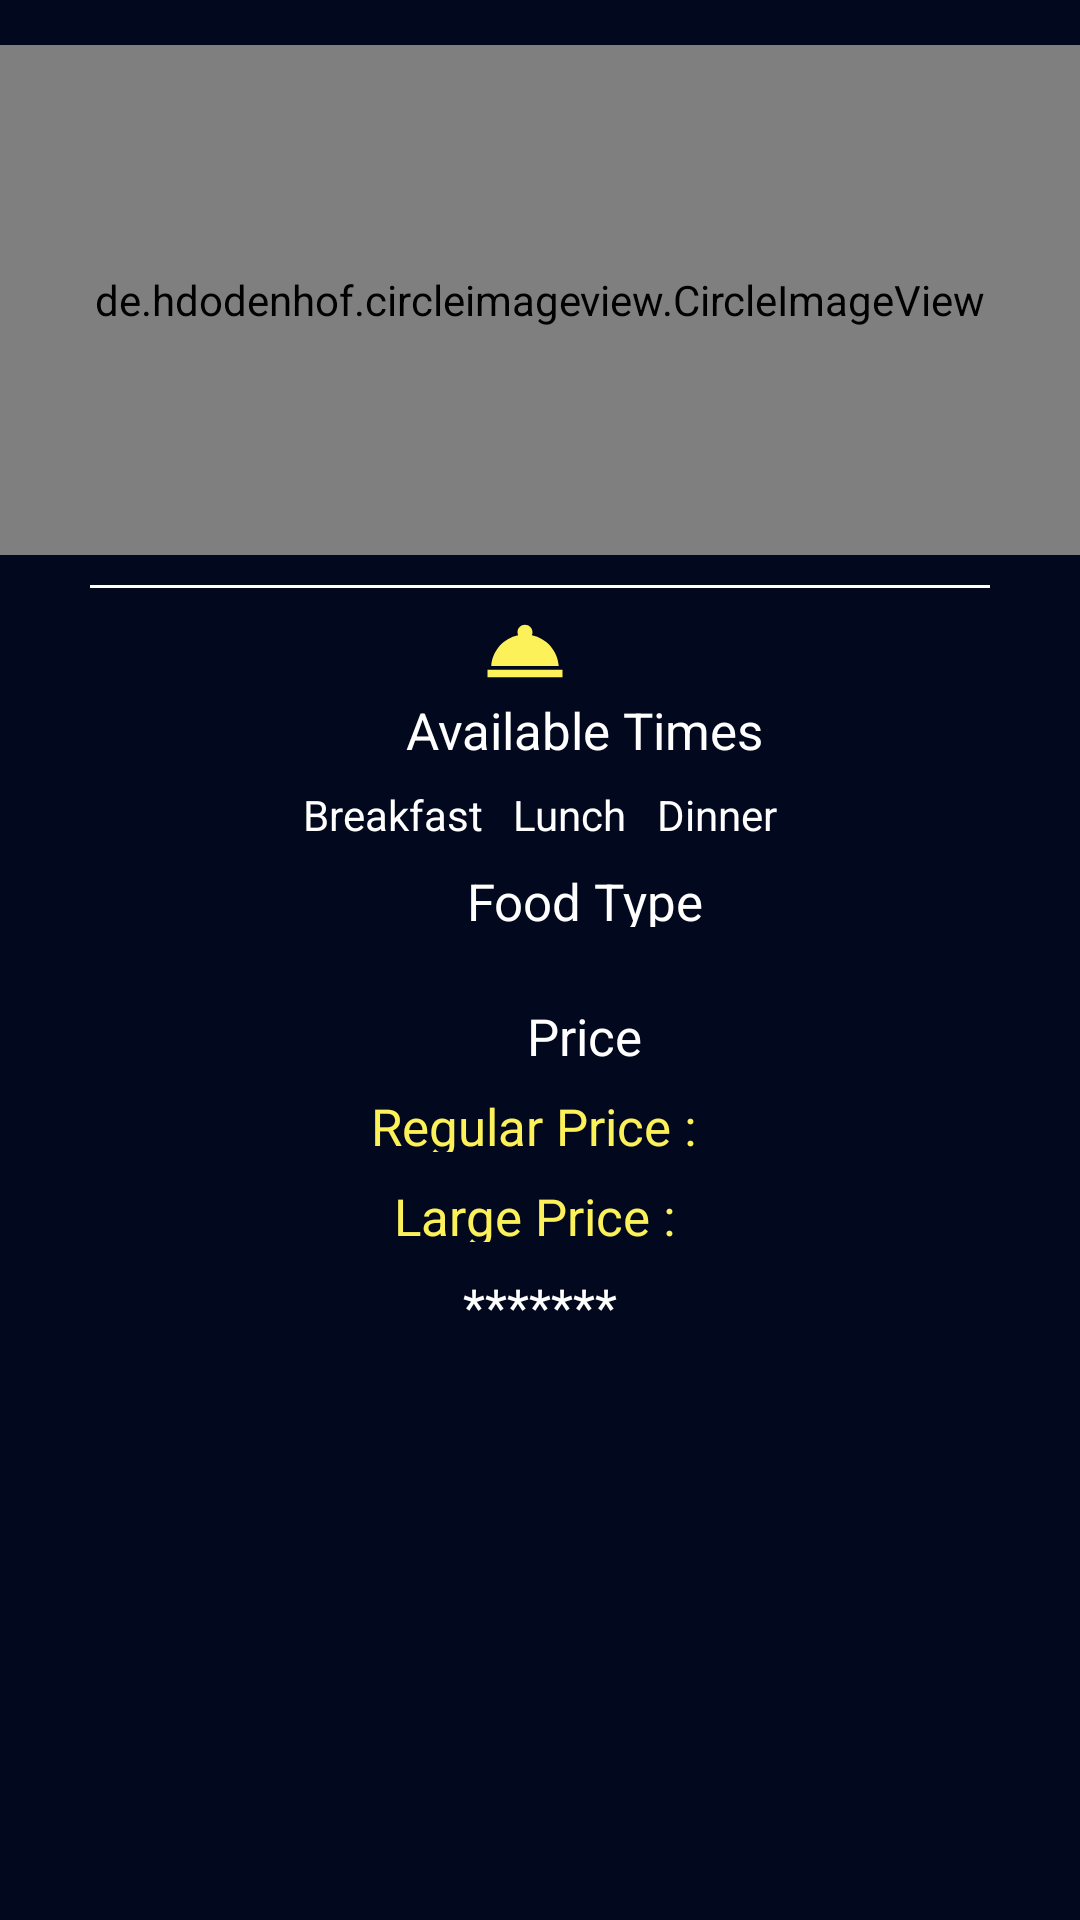

Icon click points for this 1080*1920 phone screenshot, format point (x, y):
room service: point (525, 651)
